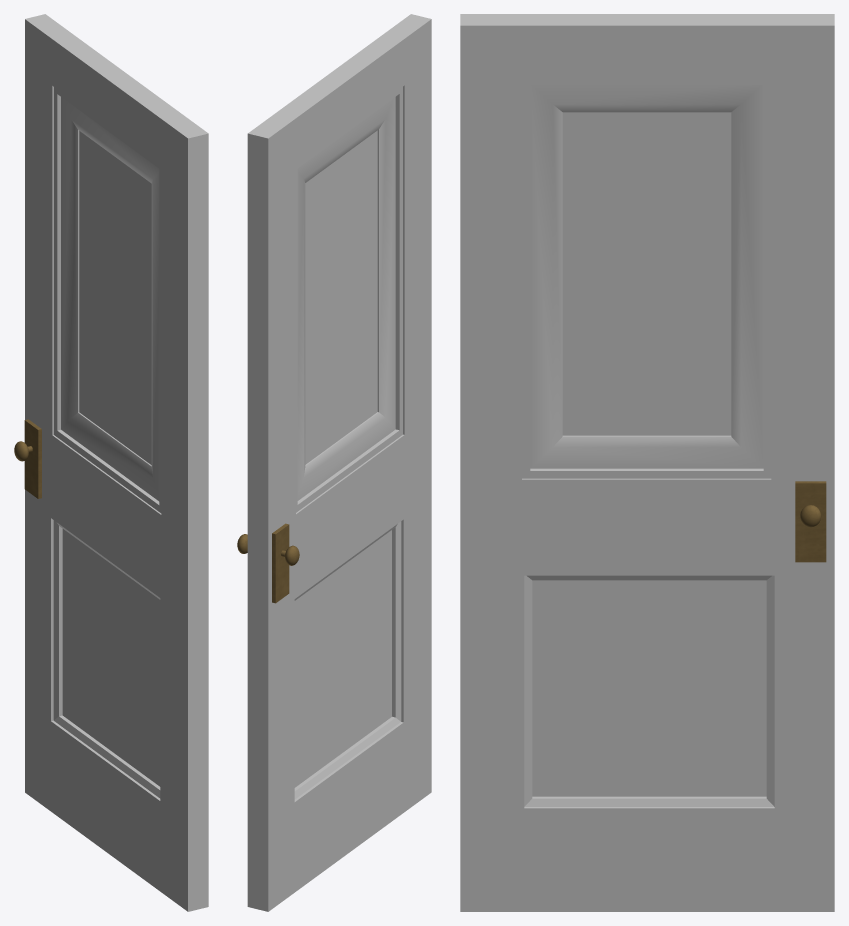
File: SM_WD26_DOOR.fbx
3 views of the same model, side by side, from view 1: azimuth 30°, elevation 25°; view 2: azimuth 150°, elevation 25°; view 3: azimuth 270°, elevation 25° (orthographic). The views are drawn at different scales.
Parts seen in each view (by area): view 1: SM_WD26_DOOR; view 2: SM_WD26_DOOR; view 3: SM_WD26_DOOR.
Boxes of the visible parts, bbox=[...] form: SM_WD26_DOOR: bbox=[14, 14, 208, 911]; SM_WD26_DOOR: bbox=[237, 14, 431, 911]; SM_WD26_DOOR: bbox=[460, 14, 834, 911].
Size of the model in its own units: 18.68 by 89.32 by 233.
